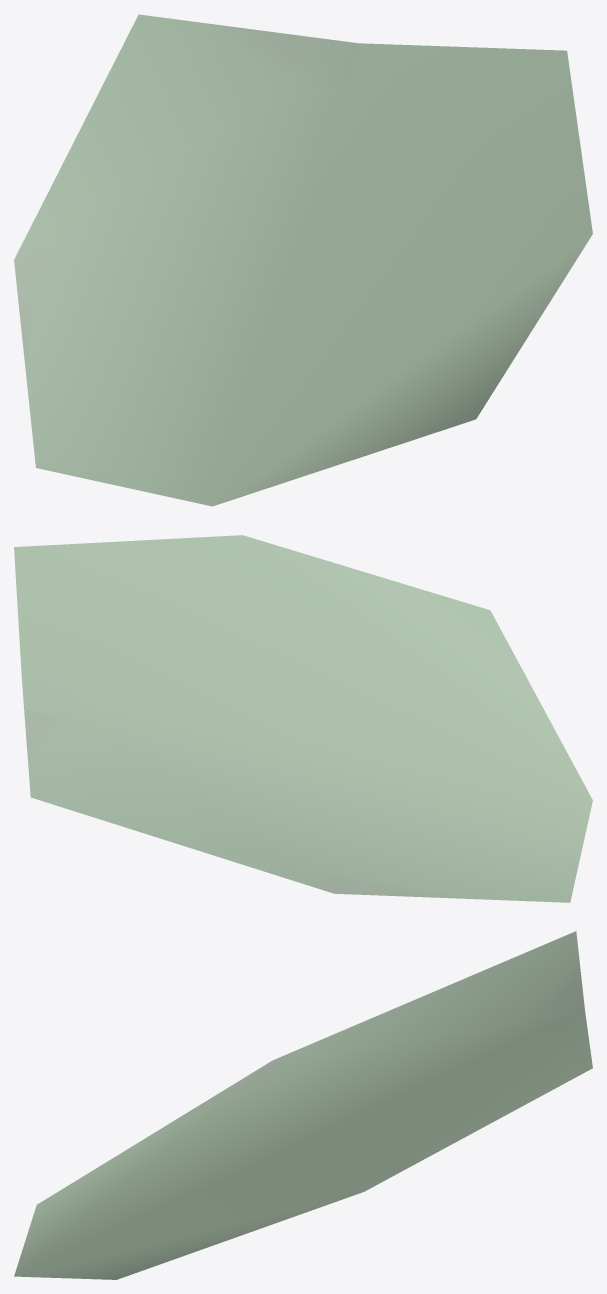
Rendered from TROLLHOLE02_HOLECAP126.fbx.
The picture shows the model from 3 angles, top to bottom: view 1: azimuth 30°, elevation 25°; view 2: azimuth 150°, elevation 25°; view 3: azimuth 330°, elevation 25°; orthographic projection. The views are drawn at different scales.
Parts seen in each view (by area): view 1: TROLLHOLE02_HOLECAP126; view 2: TROLLHOLE02_HOLECAP126; view 3: TROLLHOLE02_HOLECAP126.
Part boxes in pixels (<box>): TROLLHOLE02_HOLECAP126: <box>14,14,592,506</box>; TROLLHOLE02_HOLECAP126: <box>14,535,592,902</box>; TROLLHOLE02_HOLECAP126: <box>14,931,592,1279</box>.
Bounding box in the file's own units: 16049 × 7130 × 20454.
Materials: 1 (1 with a texture image).
